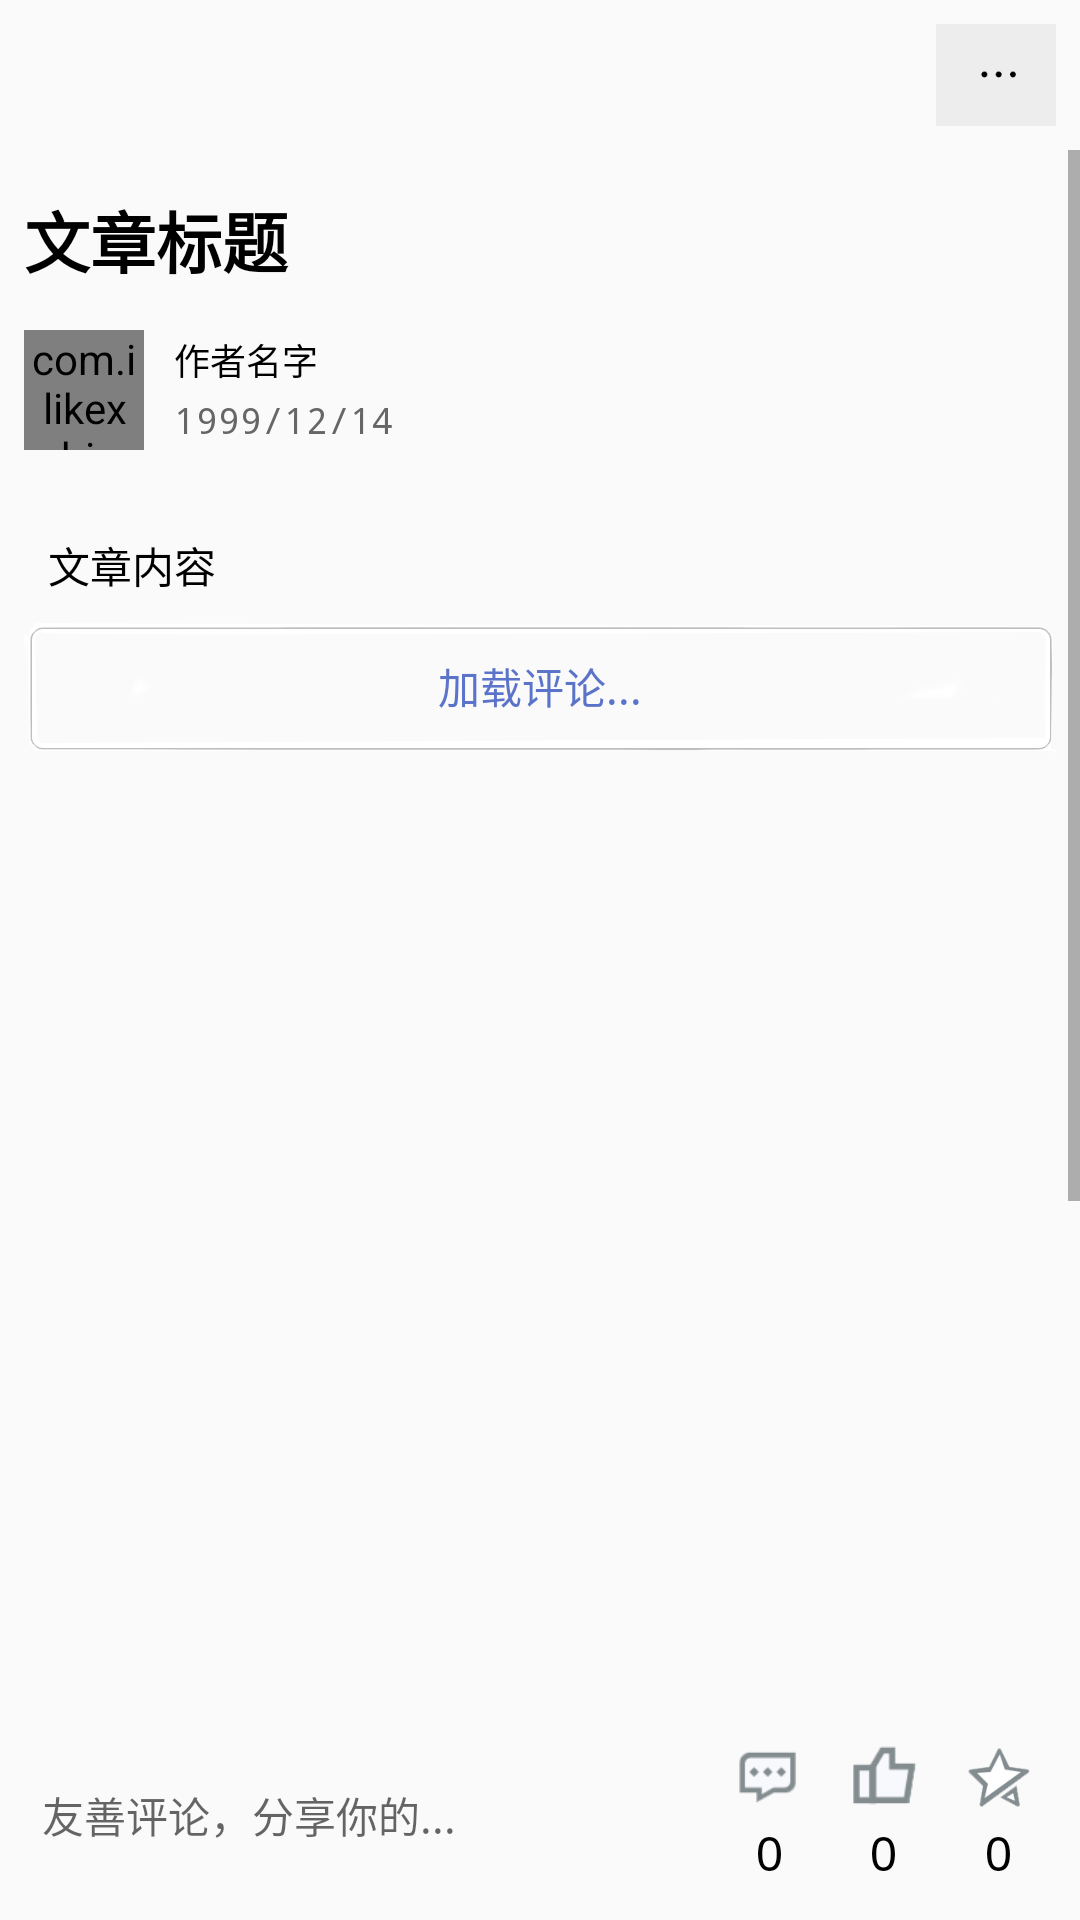

Screen size 1080×1920. Icon name, then its center in pixels as [x,y]:
collgray: [998,1777]
menu: [996,75]
pinglun: [767,1777]
